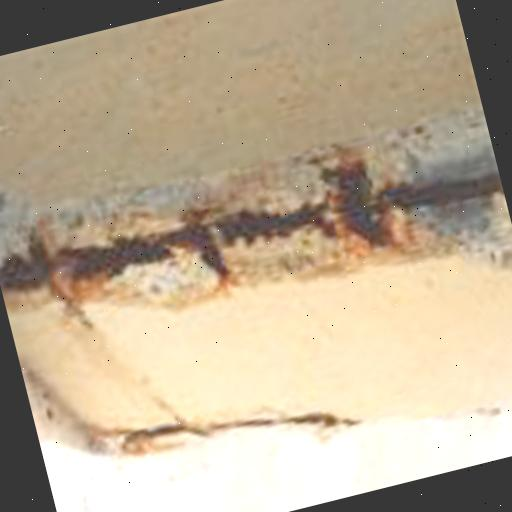spalling: (0, 108, 509, 354)
